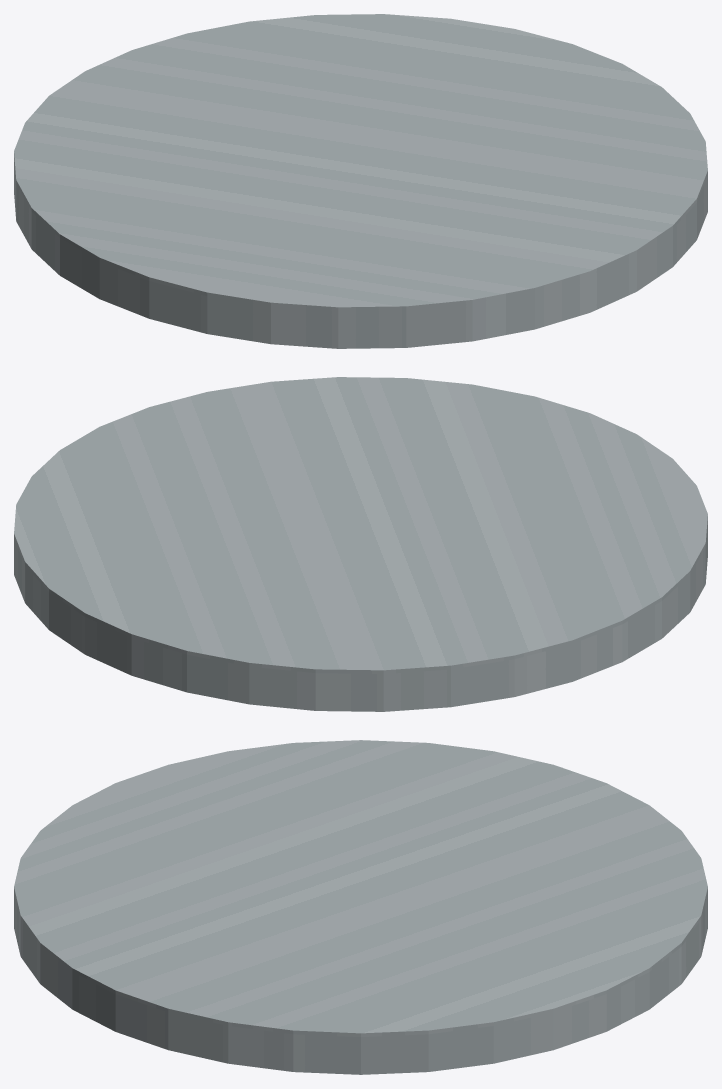
The model's file is pool_light_round.glb.
3 renders of one model, top to bottom at view 1: azimuth 30°, elevation 25°; view 2: azimuth 150°, elevation 25°; view 3: azimuth 270°, elevation 25°, orthographic.
Visible parts, largest first — view 1: core_pool_light_round; view 2: core_pool_light_round; view 3: core_pool_light_round.
Boxes of the visible parts, <box> form: core_pool_light_round: <box>14,14,707,348</box>; core_pool_light_round: <box>14,377,707,711</box>; core_pool_light_round: <box>14,740,707,1074</box>.
Bounding box in the file's own units: 0.5 × 0.033 × 0.5.
Materials: 3 (1 with a texture image).
